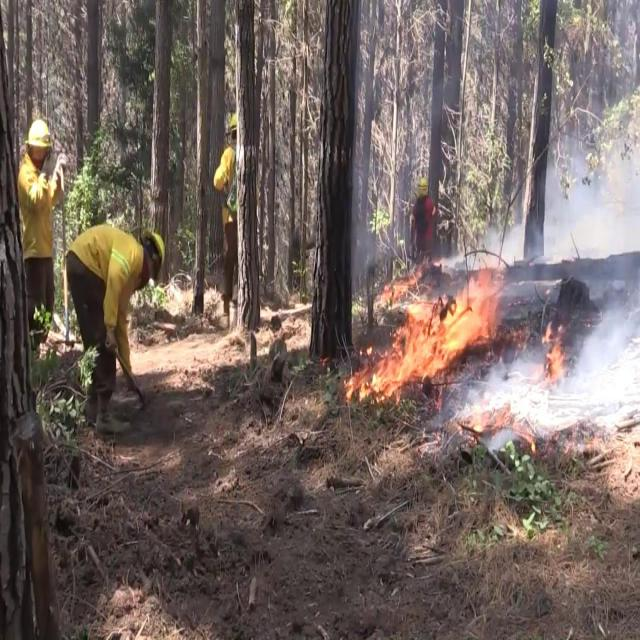fire: (357, 269, 496, 408)
